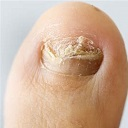Nail Fungal Infection: (41, 35, 103, 67)
